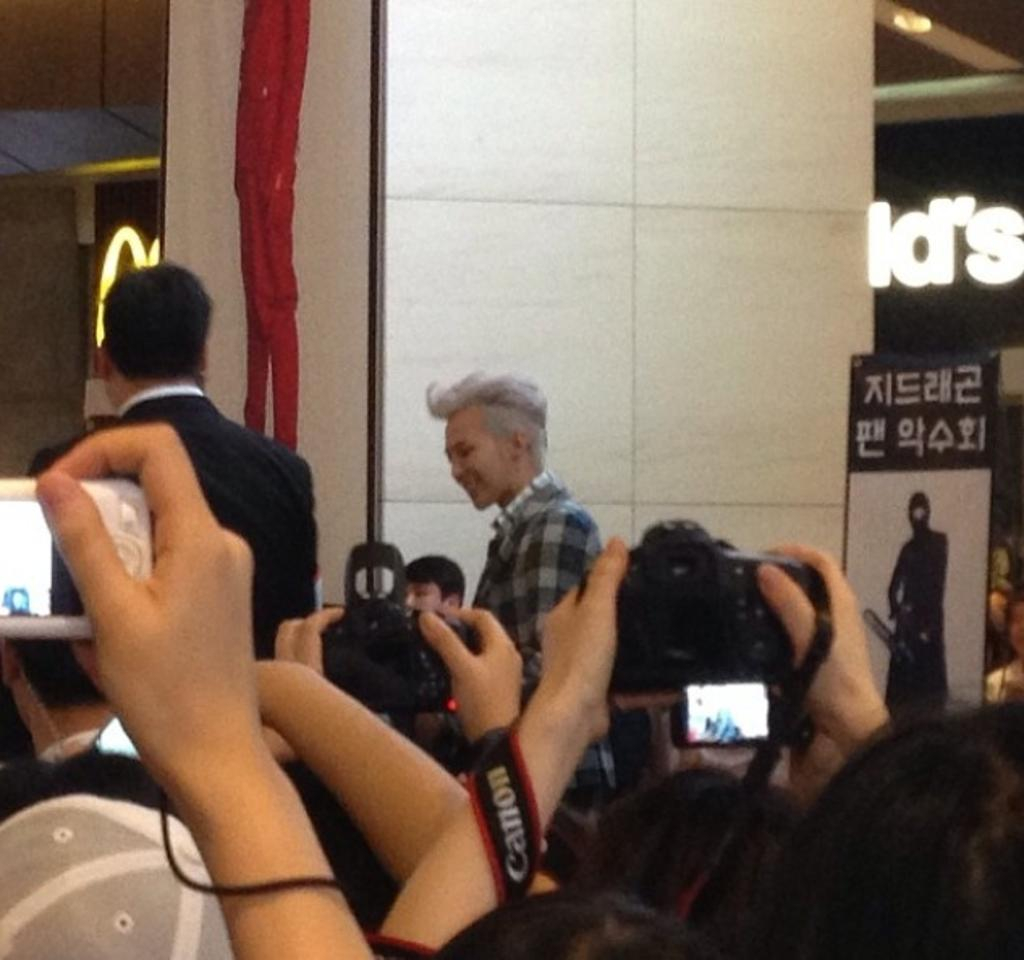face: (445, 415, 513, 510), (403, 583, 445, 633)
